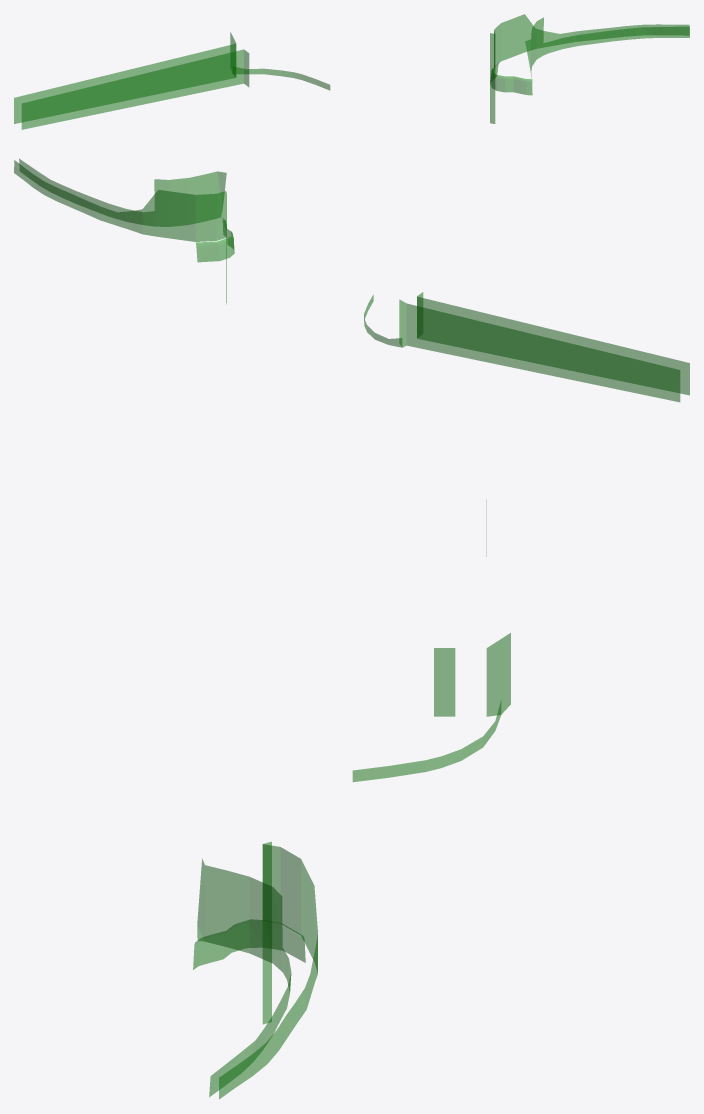
The model's file is wall.obj.
3 views of the same model, one above another, from view 1: azimuth 30°, elevation 25°; view 2: azimuth 150°, elevation 25°; view 3: azimuth 270°, elevation 25° (orthographic). The views are drawn at different scales.
Bounding box in the file's own units: 484 × 73.73 × 109.
